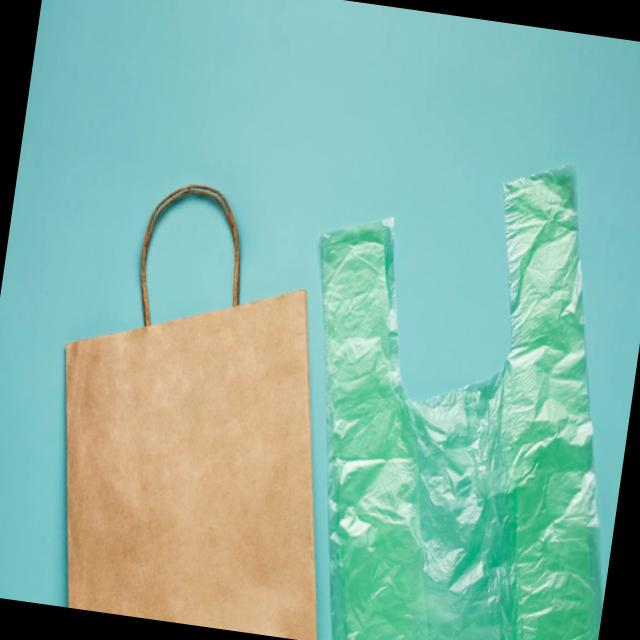plastic_bag: (306, 140, 607, 640), (45, 167, 332, 640)
